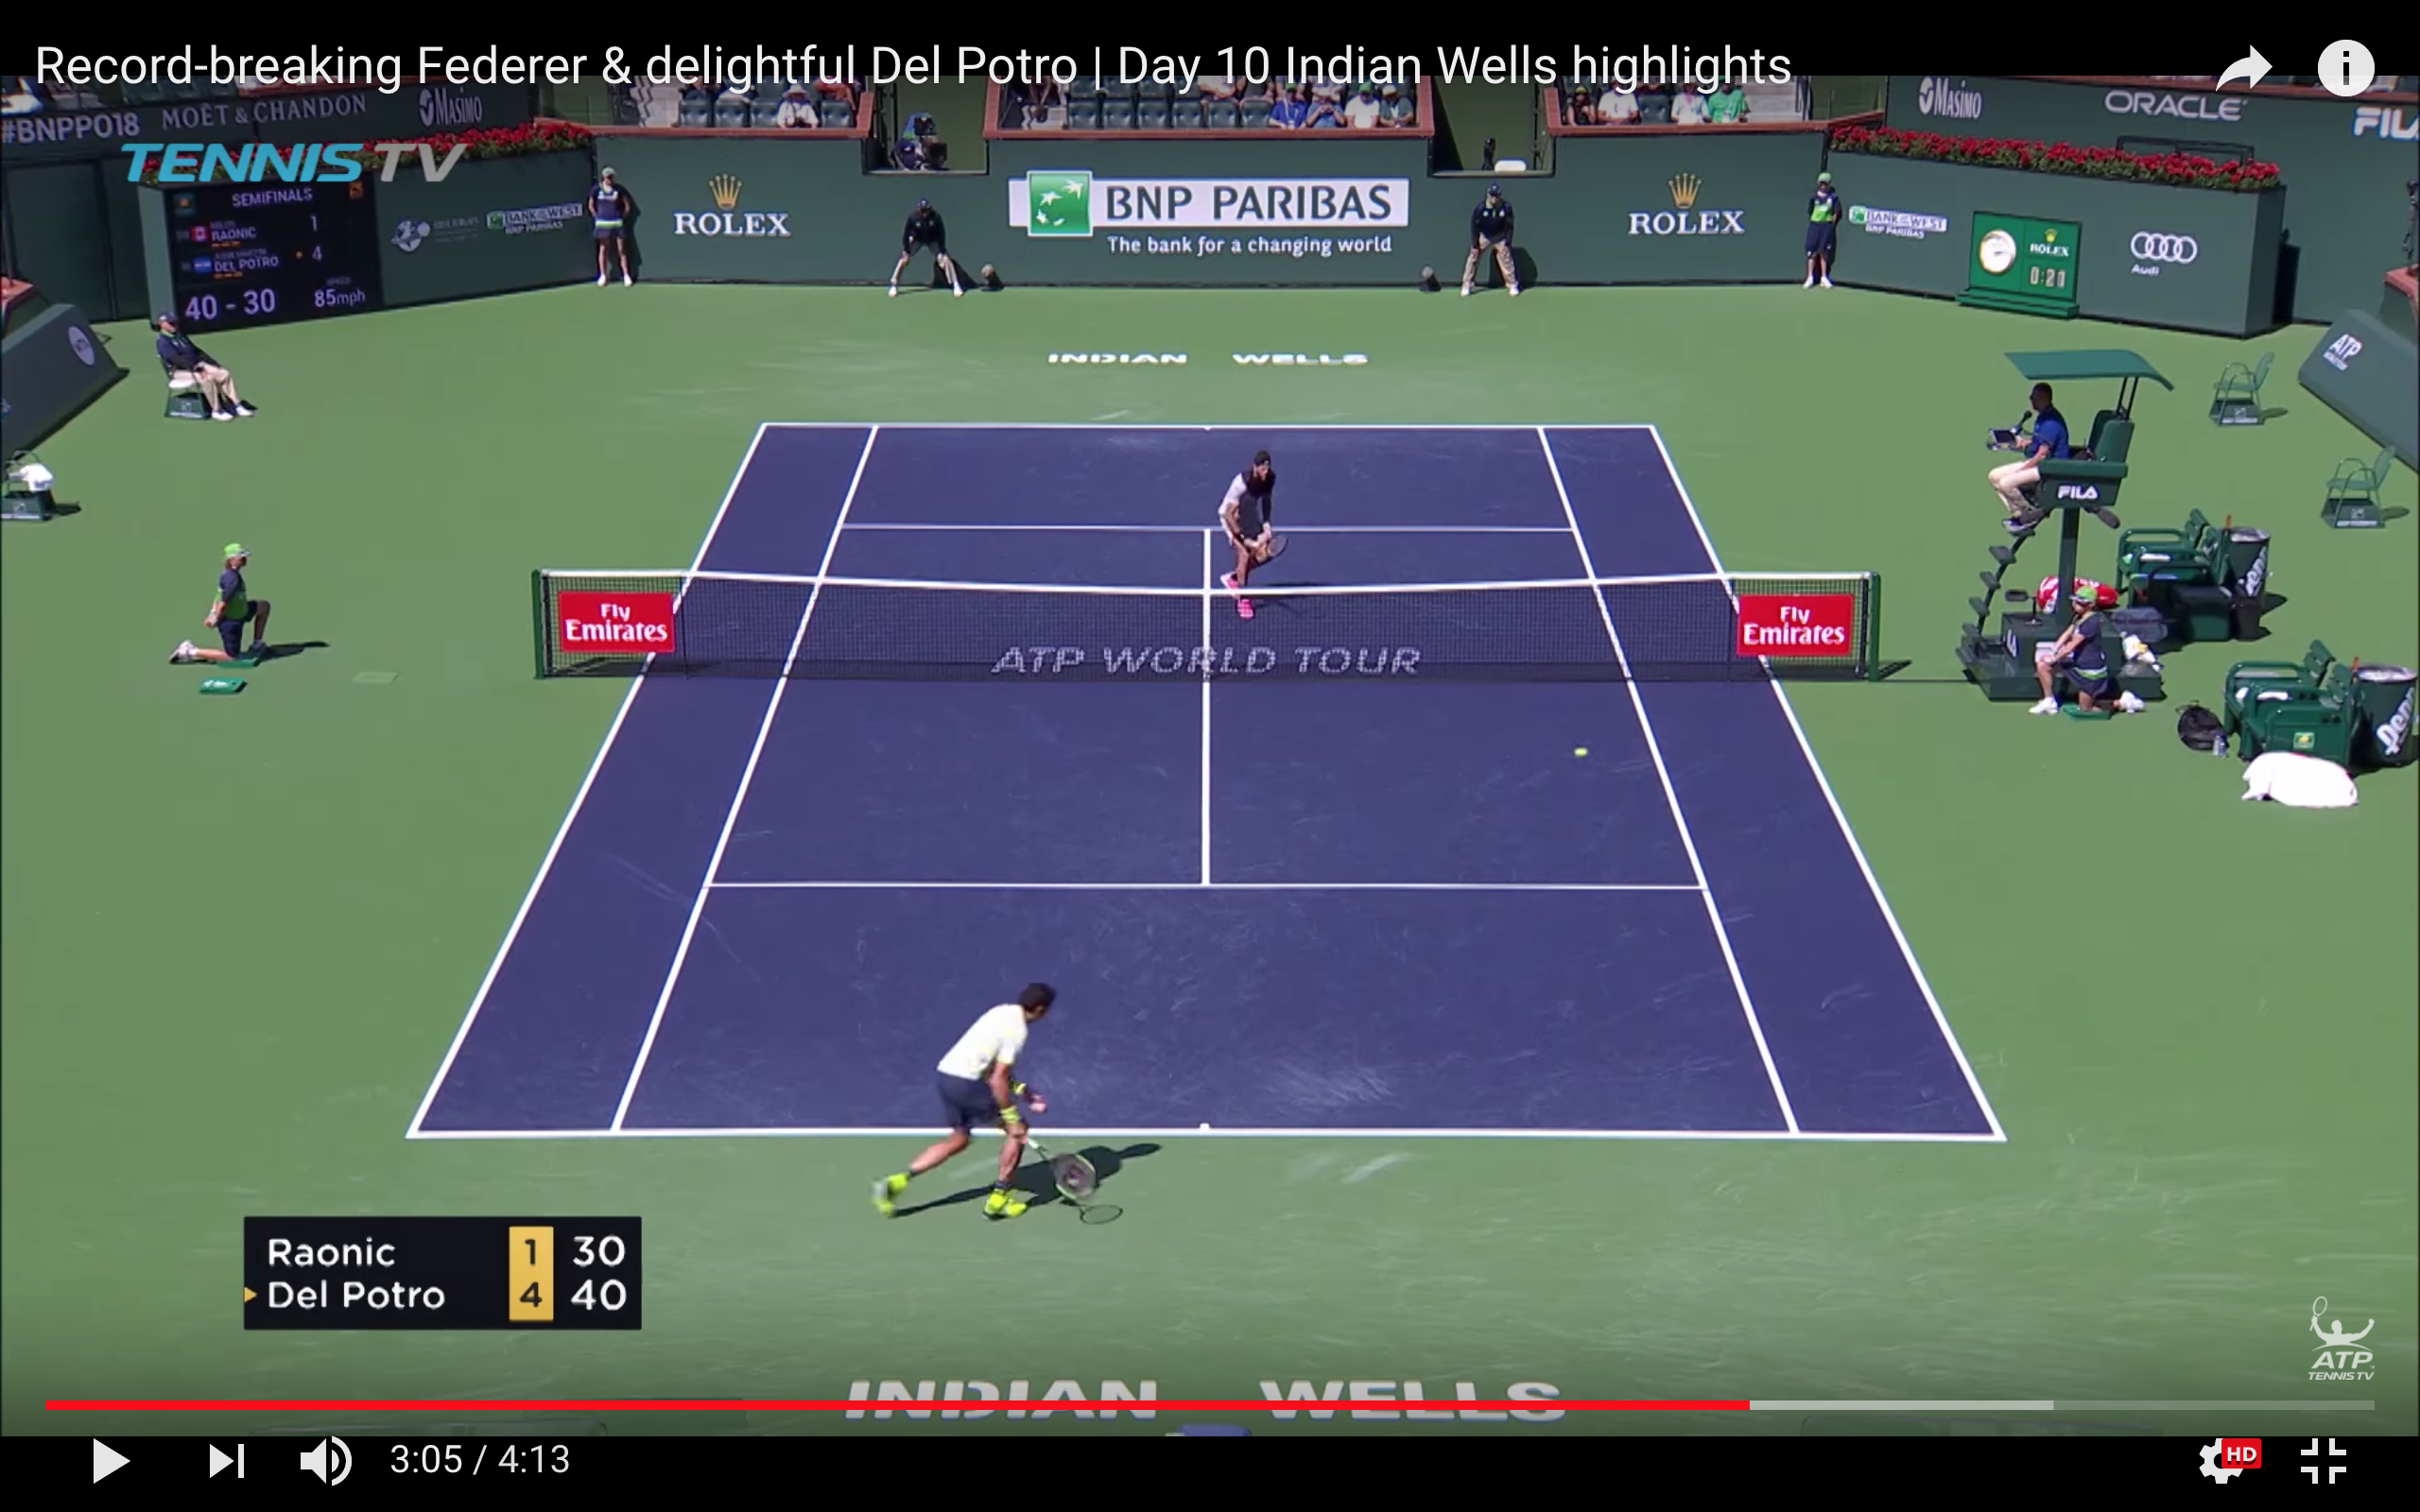tennis ball: (1564, 741, 1596, 764)
tennis player: (868, 978, 1101, 1233), (1197, 447, 1300, 622)
